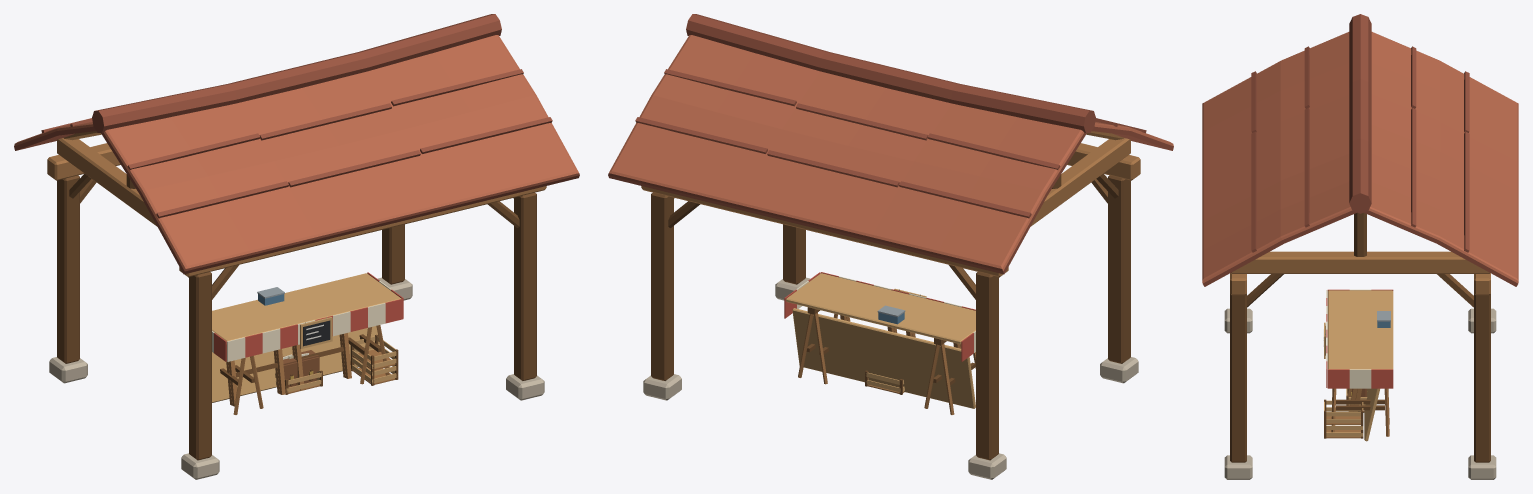
Rendered from marche.glb.
3 renders of one model, left to right at view 1: azimuth 30°, elevation 25°; view 2: azimuth 150°, elevation 25°; view 3: azimuth 270°, elevation 25°, orthographic. The views are drawn at different scales.
Parts seen in each view (by area): view 1: market_hall_roof, market_hall_frame, market_stall, market_stall_stored, mail_bag; view 2: market_hall_roof, market_hall_frame, market_stall_stored, market_stall; view 3: market_hall_roof, market_hall_frame, market_stall, market_stall_stored.
Part boxes in pixels (left/top/right/bottom): market_hall_roof: left=14, top=14, right=579, bottom=274; market_hall_frame: left=47, top=131, right=546, bottom=479; market_stall: left=212, top=272, right=403, bottom=414; market_stall_stored: left=212, top=326, right=398, bottom=406; mail_bag: left=283, top=350, right=319, bottom=387; market_hall_roof: left=608, top=14, right=1173, bottom=274; market_hall_frame: left=641, top=131, right=1140, bottom=479; market_stall_stored: left=792, top=308, right=975, bottom=408; market_stall: left=784, top=272, right=975, bottom=414; market_hall_roof: left=1202, top=14, right=1518, bottom=286; market_hall_frame: left=1224, top=212, right=1496, bottom=479; market_stall: left=1323, top=289, right=1393, bottom=436; market_stall_stored: left=1324, top=388, right=1379, bottom=441.
Bounding box in the file's own units: 4.54 × 3.52 × 3.37.
Materials: 1 (1 with a texture image).
